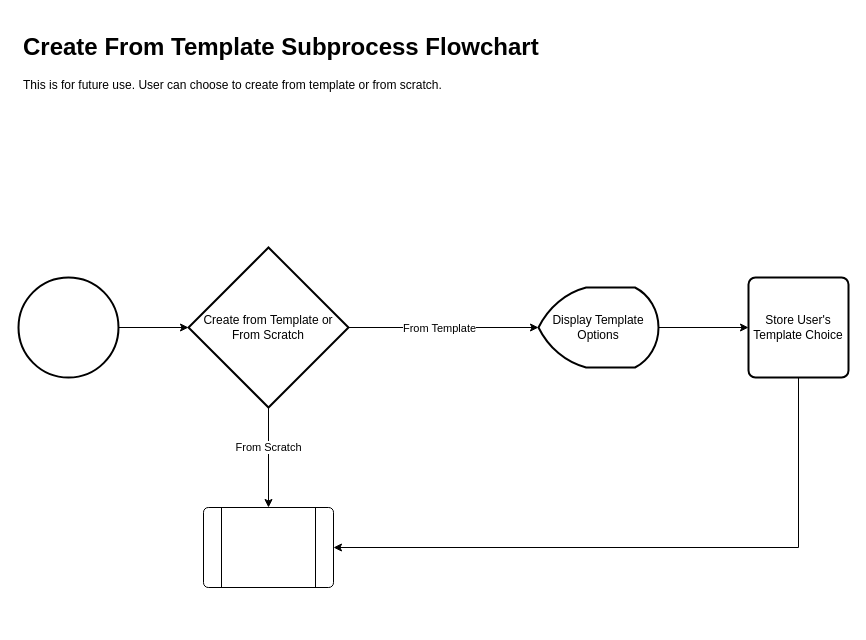
The diagram is 866 pixels wide and 640 high, and some of its shapes have lost their labels. The centre of each missing label's shape, as x and y in pixels:
"Load Mod God Toolset Startup Process" goes at (268,547).
"Start Process" goes at (68,327).
